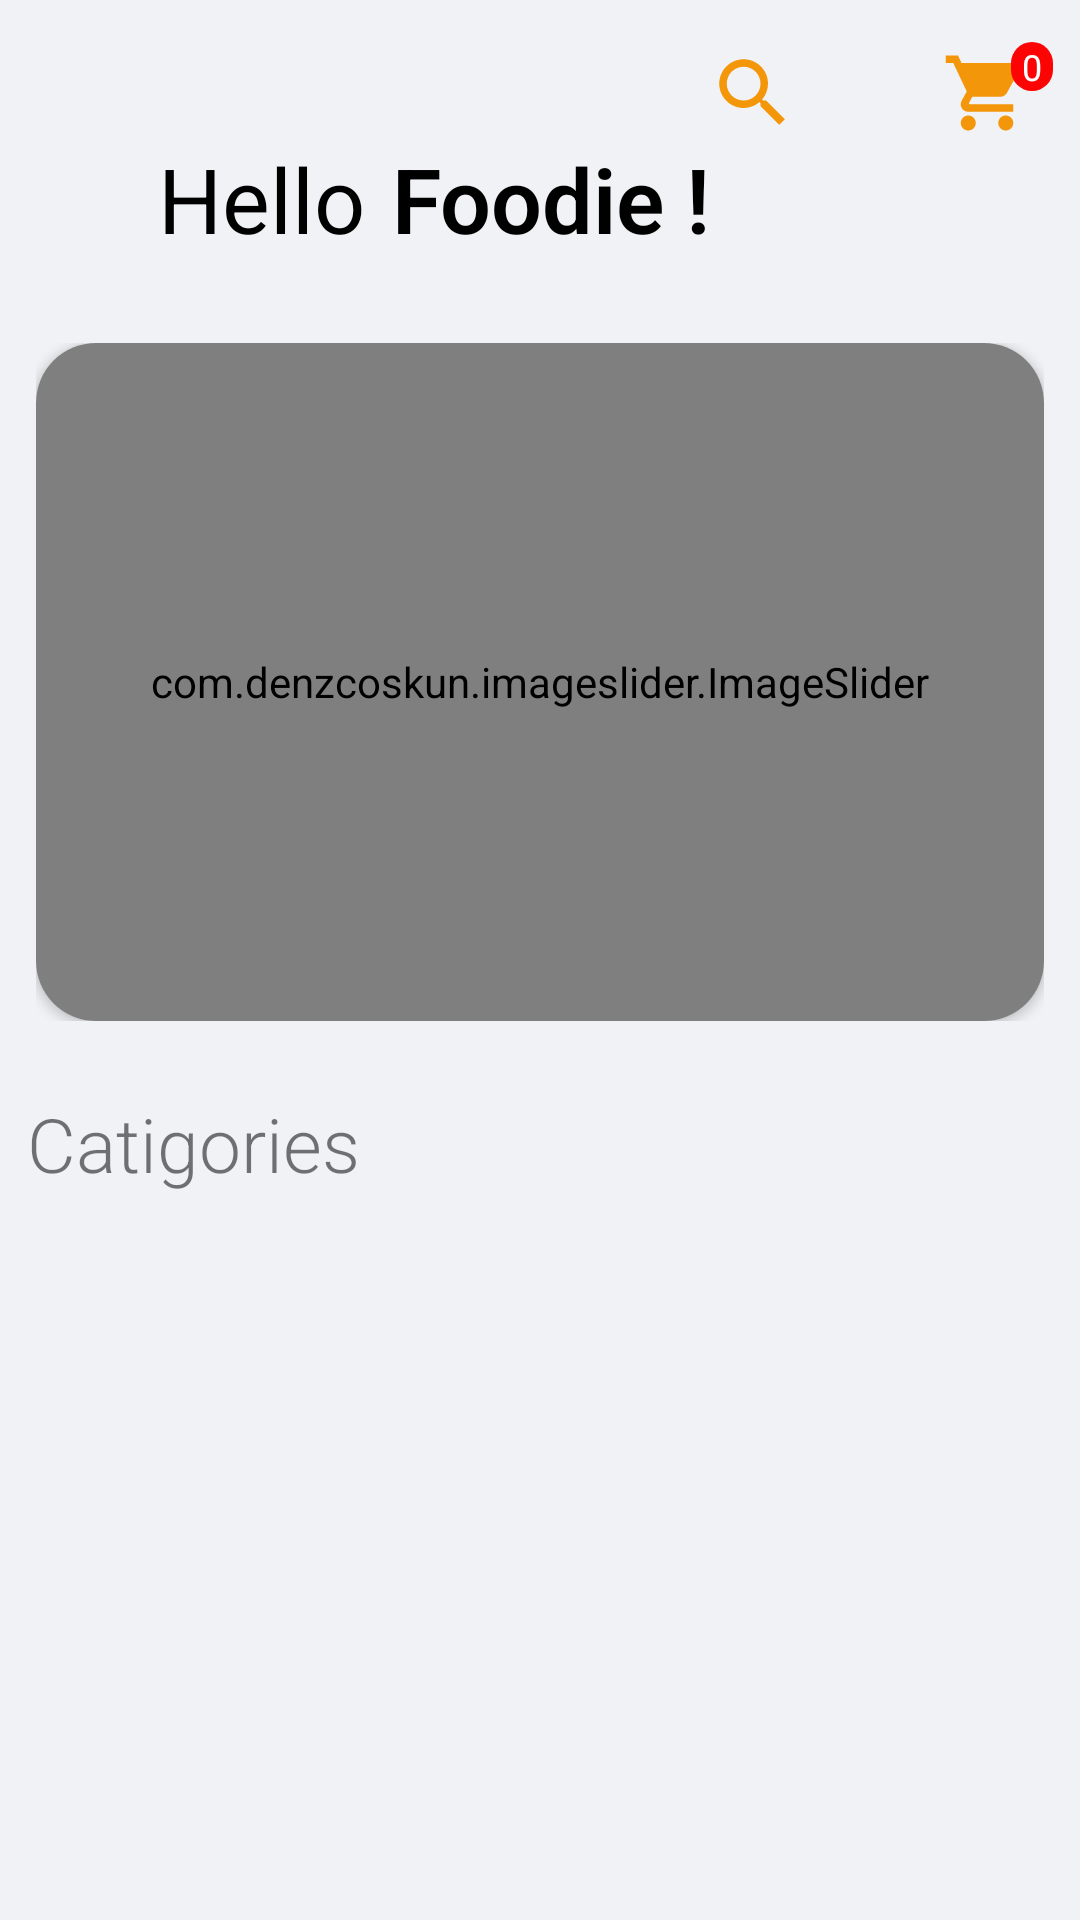

Named icons in this screenshot (1080px×1920px) and their bounding boxes, bbox(x1, y1, x2, y2):
search: bbox(719, 59, 785, 125)
shopping cart: bbox(945, 48, 1032, 131)
